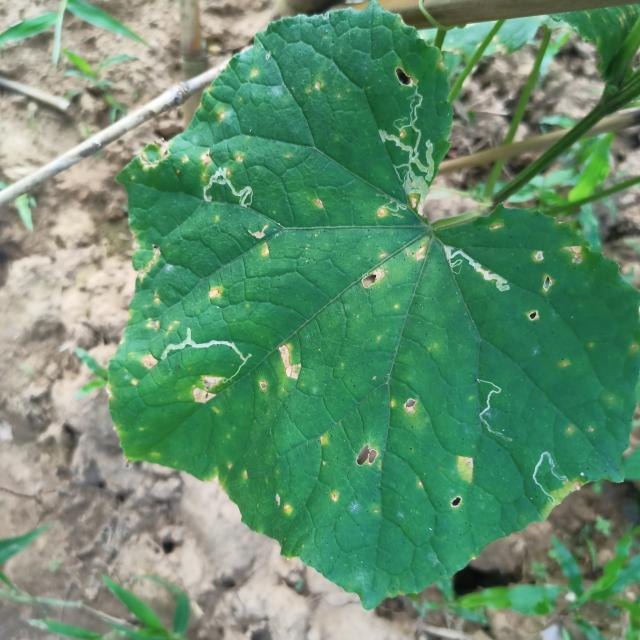disease_cucumber: (358, 208, 429, 291), (321, 439, 386, 521), (526, 242, 587, 326), (134, 246, 182, 342), (136, 128, 216, 180), (104, 347, 158, 396), (446, 454, 477, 513), (190, 373, 228, 417), (272, 340, 307, 387), (245, 220, 277, 264), (387, 390, 422, 420), (136, 245, 162, 282), (356, 443, 378, 466), (396, 67, 416, 88), (200, 376, 224, 392), (564, 246, 584, 263), (250, 224, 269, 238), (201, 152, 213, 166), (558, 359, 570, 368), (261, 244, 270, 256), (217, 110, 225, 122), (410, 198, 418, 208)
